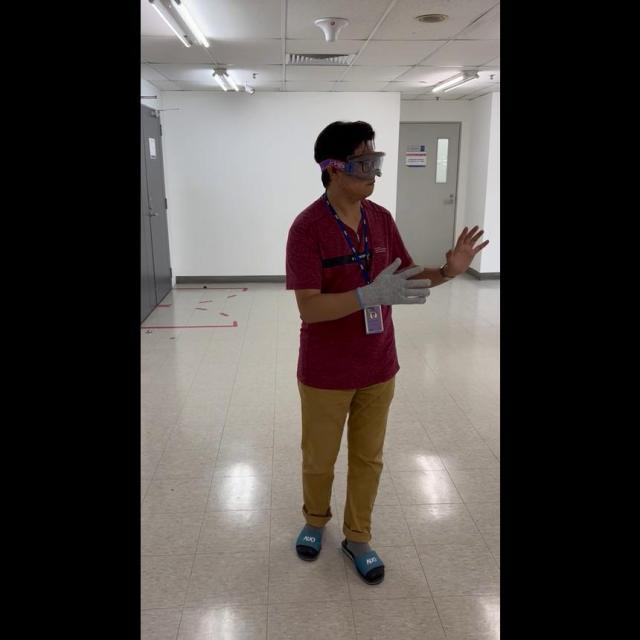bare_hand: (441, 220, 488, 274)
gloved_hand: (356, 255, 428, 312)
